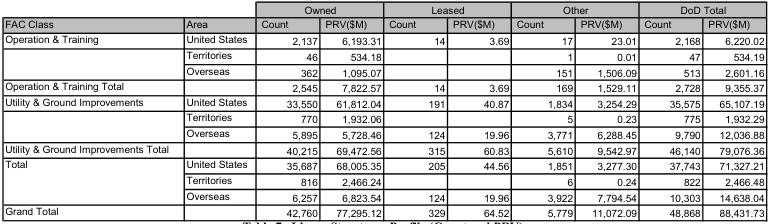table: (4, 3, 763, 218)
table column: (4, 3, 176, 218), (176, 3, 253, 218), (253, 3, 320, 218), (320, 3, 384, 218), (384, 3, 448, 218), (448, 3, 512, 218), (575, 3, 639, 218), (639, 3, 703, 218), (512, 3, 575, 218), (703, 3, 763, 218)
table column header: (4, 3, 763, 31)
table row: (4, 31, 763, 47), (4, 47, 763, 63), (4, 78, 763, 94), (4, 94, 763, 110), (4, 125, 763, 141), (4, 156, 763, 172), (4, 172, 763, 188), (4, 16, 763, 31), (4, 63, 763, 78), (4, 110, 763, 125), (4, 141, 763, 156), (4, 188, 763, 203), (4, 203, 763, 218), (4, 3, 763, 16)
table spanning cell: (4, 31, 176, 78), (4, 94, 176, 141), (4, 156, 176, 203), (4, 3, 176, 31), (176, 3, 253, 31), (253, 3, 384, 16), (384, 3, 512, 16), (512, 3, 639, 16), (639, 3, 763, 16)
